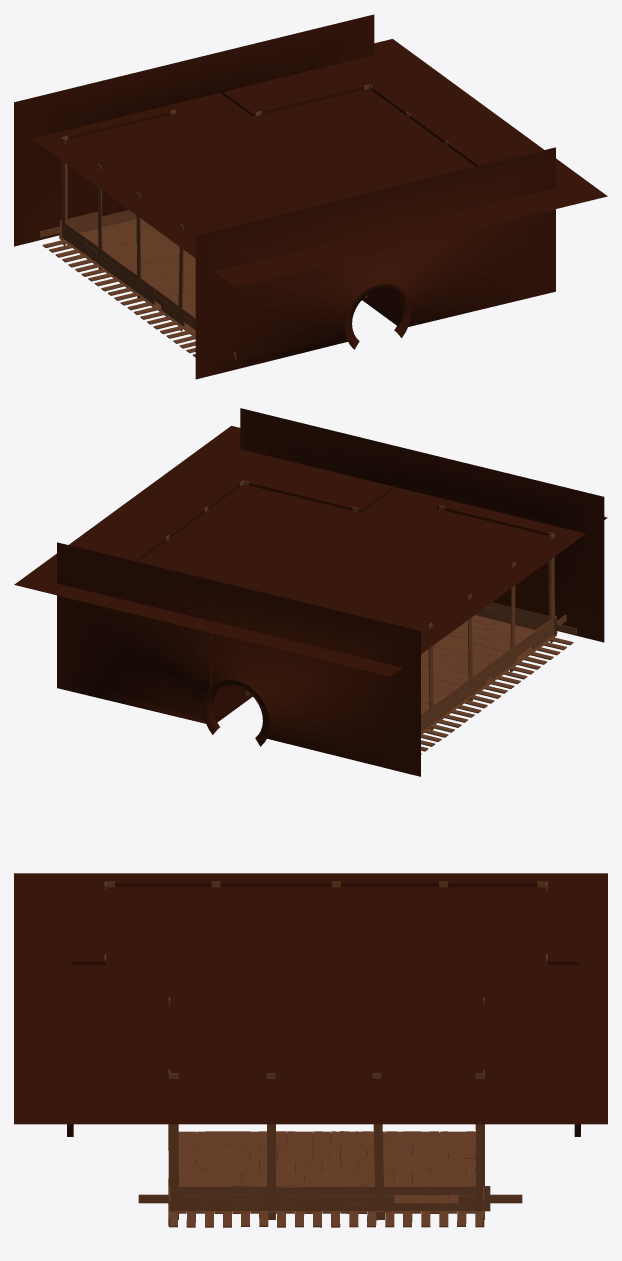
File: room2.fbx
3 renders of one model, top to bottom at view 1: azimuth 30°, elevation 25°; view 2: azimuth 150°, elevation 25°; view 3: azimuth 270°, elevation 25°, orthographic. The views are drawn at different scales.
Visible parts, largest first — view 1: Plane.004; view 2: Plane.004; view 3: Plane.004.
Boxes of the visible parts, <box> form: Plane.004: <box>14,14,607,379</box>; Plane.004: <box>14,408,607,776</box>; Plane.004: <box>14,873,607,1227</box>.
Size of the model in its own units: 2502 by 925 by 2387.
